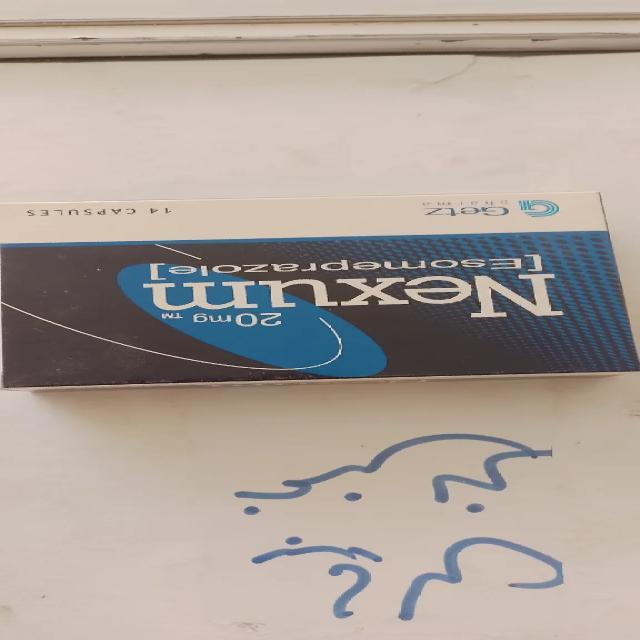drug-name: (143, 274, 562, 324)
